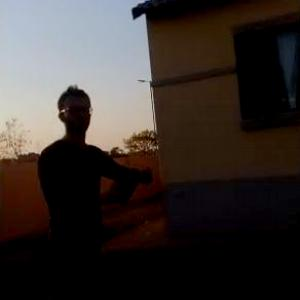follow: (43, 74, 167, 299)
